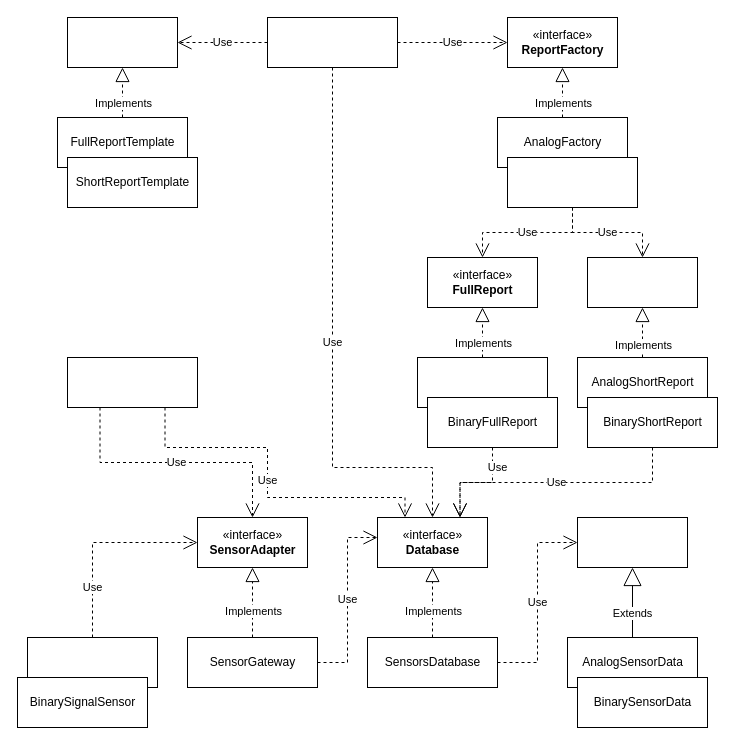
This 735x745 diagram has some shape labels left out. Here are the shapes that lost their labels. From the top down, the centre of each, then its label:
At pixel 122 42: "«interface» Template".
At pixel 332 42: "ReportController".
At pixel 572 182: "BinaryFactory".
At pixel 642 282: "«interface» ShortReport".
At pixel 132 382: "InitDatabase".
At pixel 482 382: "AnalogFullReport".
At pixel 632 542: "<<abstract>> SensorData".
At pixel 92 662: "AnalogSignalSensor".
